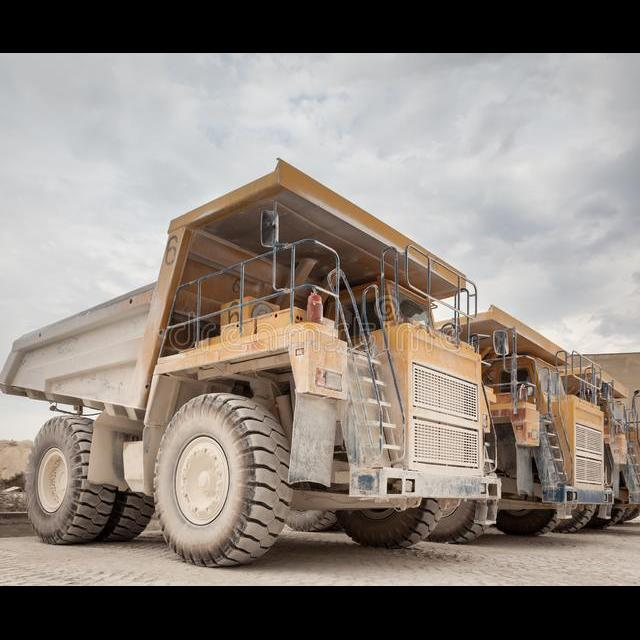dump truck: (0, 154, 507, 569), (429, 298, 614, 545), (563, 357, 640, 534)
